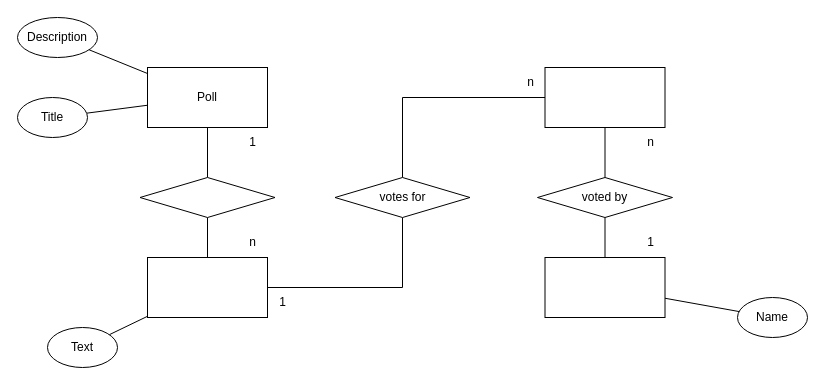
The diagram is 825 pixels wide and 385 high, and some of its shapes have lost their labels. The shapes that lost their labels are listed below. From the top down, each one's centre as x and y in pixels, then its label:
[604,97]: Vote
[207,197]: consists of
[207,287]: Option
[604,287]: User
